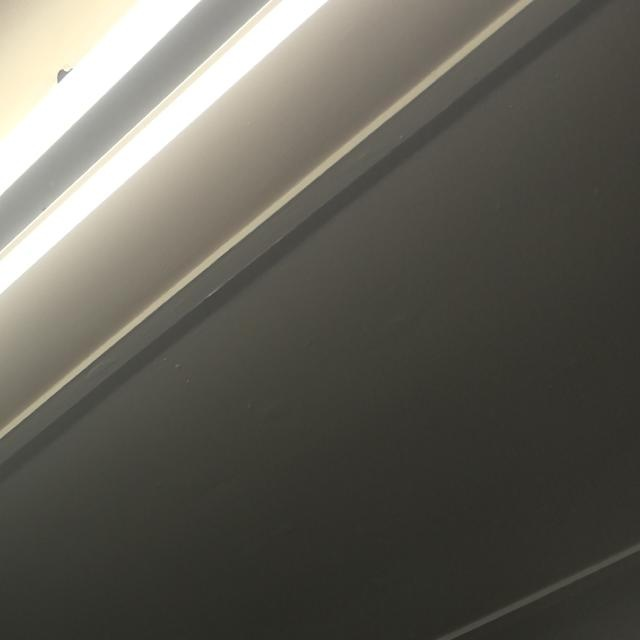fluorescent tube: (0, 0, 337, 501), (0, 0, 197, 456)
